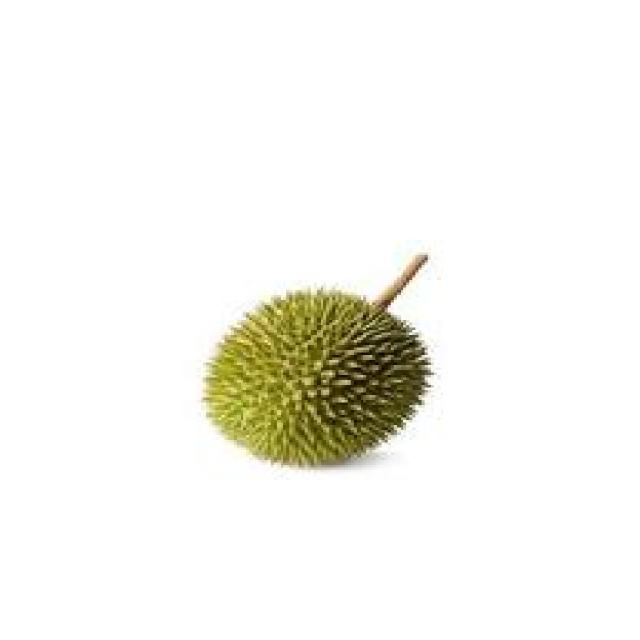fruit: (176, 267, 450, 495)
